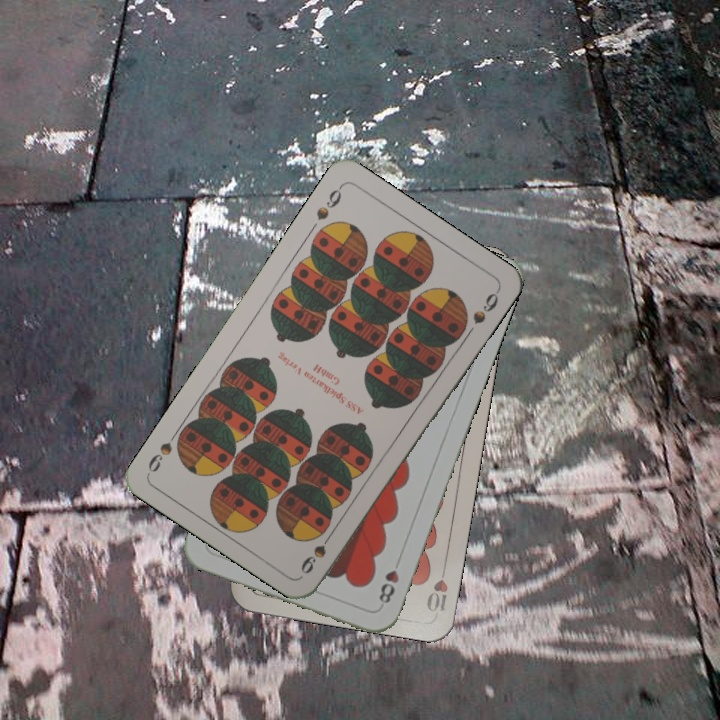H10: (422, 558, 451, 614)
H8: (374, 566, 402, 606)
S9: (296, 525, 338, 577), (312, 181, 345, 224)
